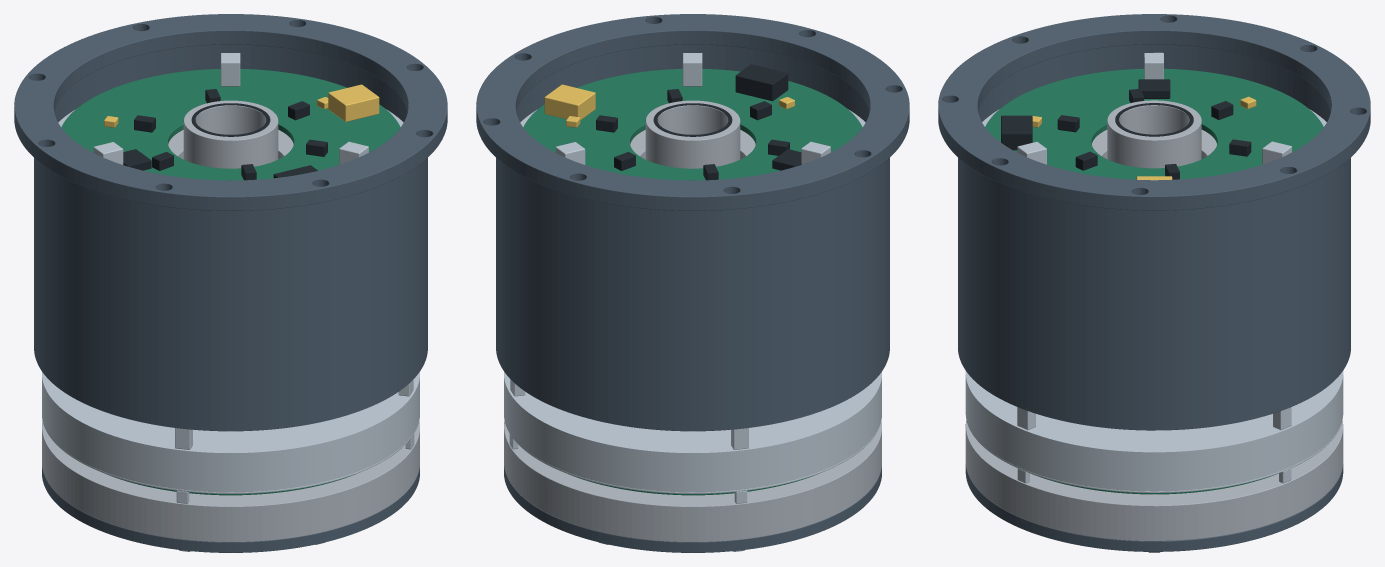
Rendered from harmonic-joint.glb.
3 views of the same model, side by side, from view 1: azimuth 30°, elevation 25°; view 2: azimuth 150°, elevation 25°; view 3: azimuth 270°, elevation 25° (orthographic).
Visible parts, largest first — view 1: housing-full, housing-section, base-flange, fixed-circular-spline-202, drive-board, crossroller-outer-race, crossroller-outer-race-section, hollow-input-shaft, outer-bearing-retainer, outer-bearing-retainer-section, drive-power-stage, drive-bus-capacitors (+5 smaller); view 2: housing-full, housing-section, base-flange, fixed-circular-spline-202, drive-board, crossroller-outer-race, crossroller-outer-race-section, hollow-input-shaft, outer-bearing-retainer, drive-power-stage, drive-bus-capacitors, outer-bearing-retainer-section (+6 smaller); view 3: housing-full, base-flange, housing-section, fixed-circular-spline-202, drive-board, crossroller-outer-race, hollow-input-shaft, crossroller-outer-race-section, outer-bearing-retainer, drive-power-stage, drive-bus-capacitors, outer-bearing-retainer-section (+6 smaller).
Part boxes in pixels (left/top/right/bottom): housing-full: left=34, top=44, right=427, bottom=430; housing-section: left=34, top=56, right=427, bottom=431; base-flange: left=14, top=14, right=447, bottom=210; fixed-circular-spline-202: left=42, top=372, right=419, bottom=492; drive-board: left=61, top=69, right=400, bottom=180; crossroller-outer-race: left=42, top=422, right=419, bottom=541; crossroller-outer-race-section: left=42, top=421, right=419, bottom=542; hollow-input-shaft: left=183, top=100, right=278, bottom=168; outer-bearing-retainer: left=42, top=467, right=419, bottom=552; outer-bearing-retainer-section: left=42, top=466, right=419, bottom=552; drive-power-stage: left=134, top=89, right=327, bottom=180; drive-bus-capacitors: left=93, top=53, right=368, bottom=164; housing-full: left=496, top=44, right=889, bottom=430; housing-section: left=529, top=45, right=889, bottom=431; base-flange: left=476, top=14, right=909, bottom=210; fixed-circular-spline-202: left=504, top=372, right=881, bottom=492; drive-board: left=523, top=69, right=862, bottom=180; crossroller-outer-race: left=504, top=421, right=881, bottom=541; crossroller-outer-race-section: left=598, top=421, right=881, bottom=542; hollow-input-shaft: left=645, top=100, right=740, bottom=168; outer-bearing-retainer: left=504, top=466, right=881, bottom=552; drive-power-stage: left=596, top=89, right=789, bottom=180; drive-bus-capacitors: left=555, top=53, right=830, bottom=164; outer-bearing-retainer-section: left=599, top=469, right=881, bottom=552; housing-full: left=958, top=44, right=1350, bottom=430; base-flange: left=938, top=14, right=1370, bottom=210; housing-section: left=958, top=44, right=1330, bottom=430; fixed-circular-spline-202: left=965, top=371, right=1343, bottom=491; drive-board: left=985, top=68, right=1323, bottom=179; crossroller-outer-race: left=965, top=421, right=1343, bottom=541; hollow-input-shaft: left=1107, top=100, right=1201, bottom=168; crossroller-outer-race-section: left=965, top=420, right=1343, bottom=541; outer-bearing-retainer: left=965, top=463, right=1343, bottom=551; drive-power-stage: left=1057, top=89, right=1251, bottom=179; drive-bus-capacitors: left=1017, top=52, right=1291, bottom=164; outer-bearing-retainer-section: left=966, top=468, right=1154, bottom=551.
Bounding box in the file's own units: 0.11 × 0.11 × 0.11.
